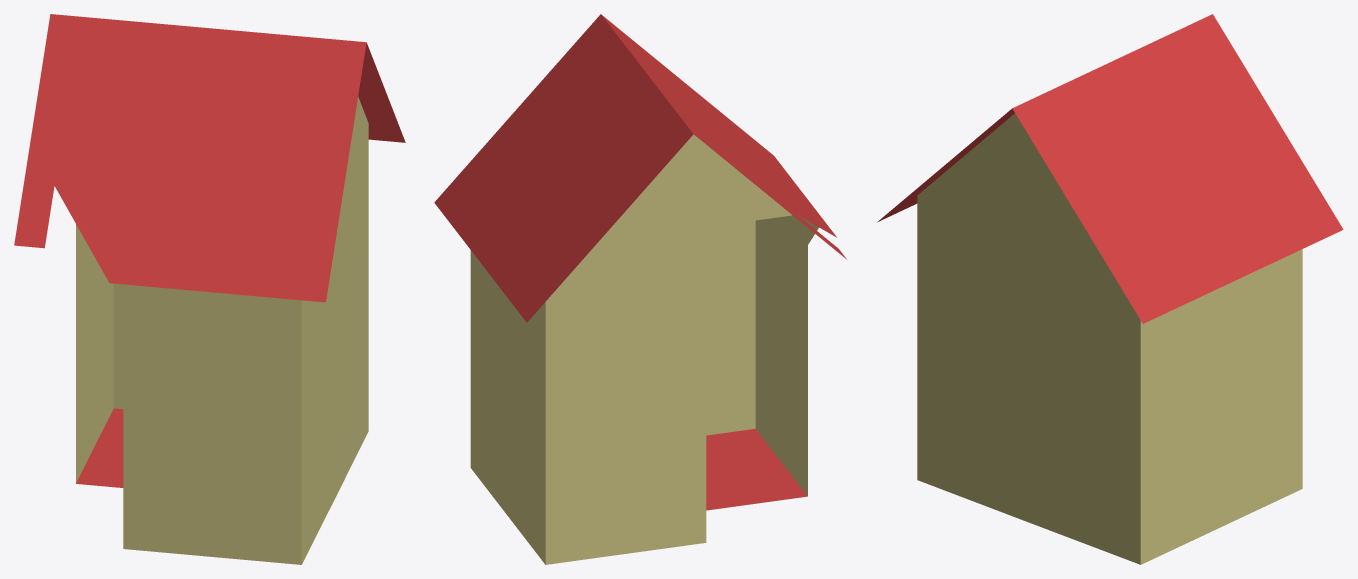
3 views of the same model, side by side, from view 1: azimuth 30°, elevation 25°; view 2: azimuth 150°, elevation 25°; view 3: azimuth 270°, elevation 25° (orthographic). The views are drawn at different scales.
Bounding box in the file's own units: 15.46 × 16.08 × 16.11.
